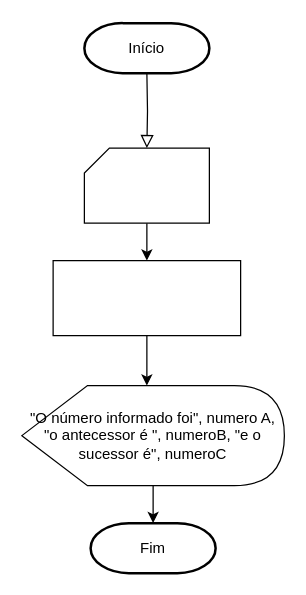
The diagram is 306 pixels wide and 595 high, and some of its shapes have lost their labels. The centre of each missing label's shape, as x and y in pixels:
"NumeroA" goes at pixel 146 185.
"numeroB = numeroA -1 numeroC = numeroC + 1" goes at pixel 146 297.
